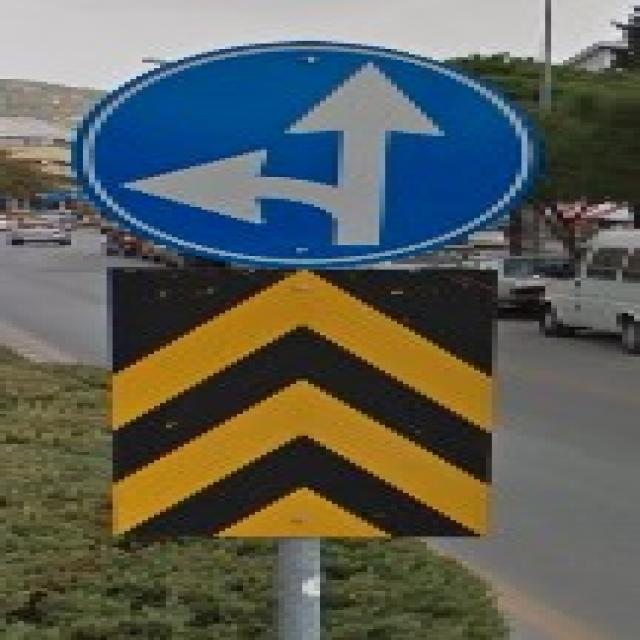Straight or Left: (72, 42, 534, 265)
